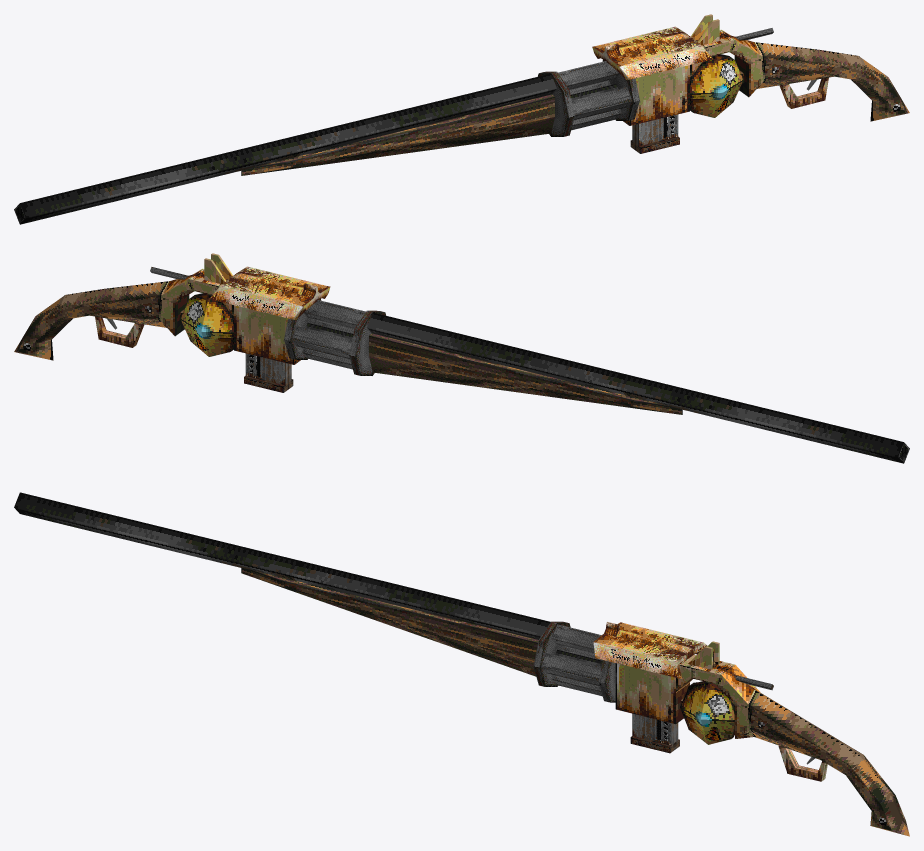
Rendered from Untitledgtybc.gltf.
3 renders of one model, top to bottom at view 1: azimuth 30°, elevation 25°; view 2: azimuth 150°, elevation 25°; view 3: azimuth 330°, elevation 25°, orthographic.
Visible parts, largest first — view 1: MainFrame, Barrel, Barrel Roof, Mag; view 2: MainFrame, Barrel, Barrel Roof, Mag; view 3: MainFrame, Barrel, Barrel Roof, Mag.
Part boxes in pixels (x1=…): MainFrame: x1=14, y1=14, x2=909, y2=224; Barrel: x1=538, y1=60, x2=639, y2=136; Barrel Roof: x1=592, y1=26, x2=712, y2=79; Mag: x1=630, y1=114, x2=679, y2=153; MainFrame: x1=14, y1=253, x2=909, y2=463; Barrel: x1=284, y1=299, x2=385, y2=375; Barrel Roof: x1=209, y1=266, x2=330, y2=319; Mag: x1=244, y1=353, x2=293, y2=392; MainFrame: x1=14, y1=492, x2=909, y2=836; Barrel: x1=533, y1=621, x2=615, y2=702; Barrel Roof: x1=593, y1=622, x2=707, y2=678; Mag: x1=630, y1=713, x2=679, y2=753.
Bounding box in the file's own units: 6.37 × 0.9794 × 0.4507.
Materials: 6 (6 with a texture image).
